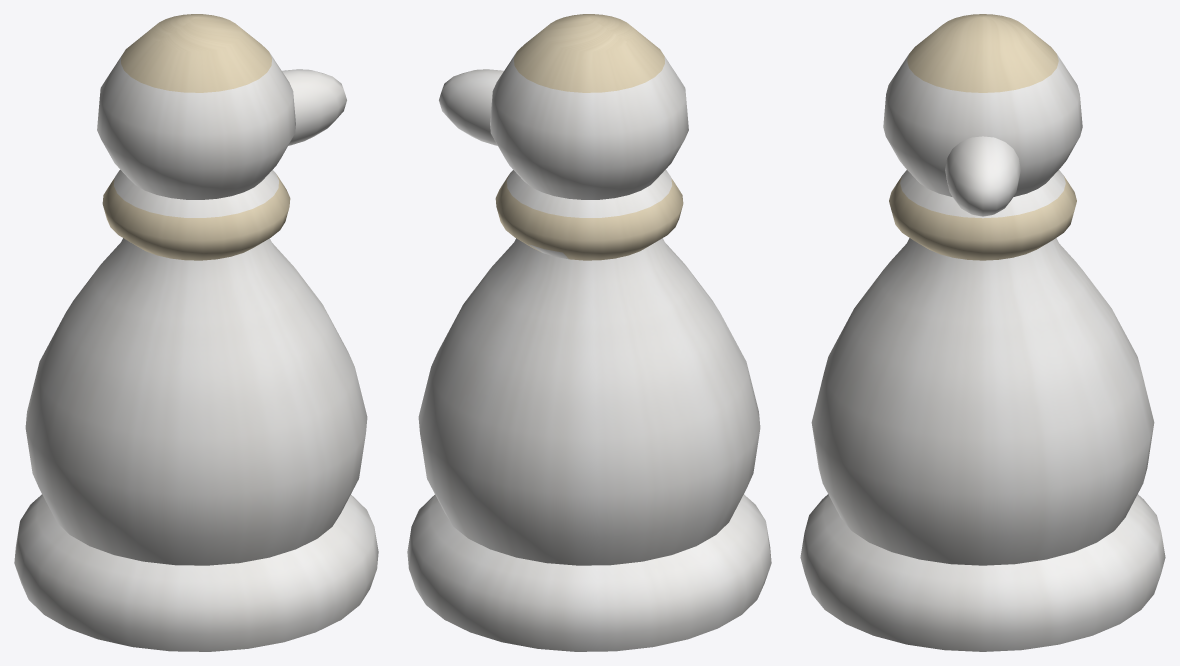
Rendered from pawn.glb.
The picture shows the model from 3 angles, left to right: view 1: azimuth 30°, elevation 25°; view 2: azimuth 150°, elevation 25°; view 3: azimuth 270°, elevation 25°; orthographic projection.
Parts seen in each view (by area): view 1: pawn; view 2: pawn; view 3: pawn.
Boxes of the visible parts, x1=… form: pawn: x1=14, y1=14, x2=378, y2=651; pawn: x1=407, y1=14, x2=771, y2=651; pawn: x1=800, y1=14, x2=1165, y2=651.
Size of the model in its own units: 0.026 by 0.044 by 0.026.
2 materials, 2 textured.
